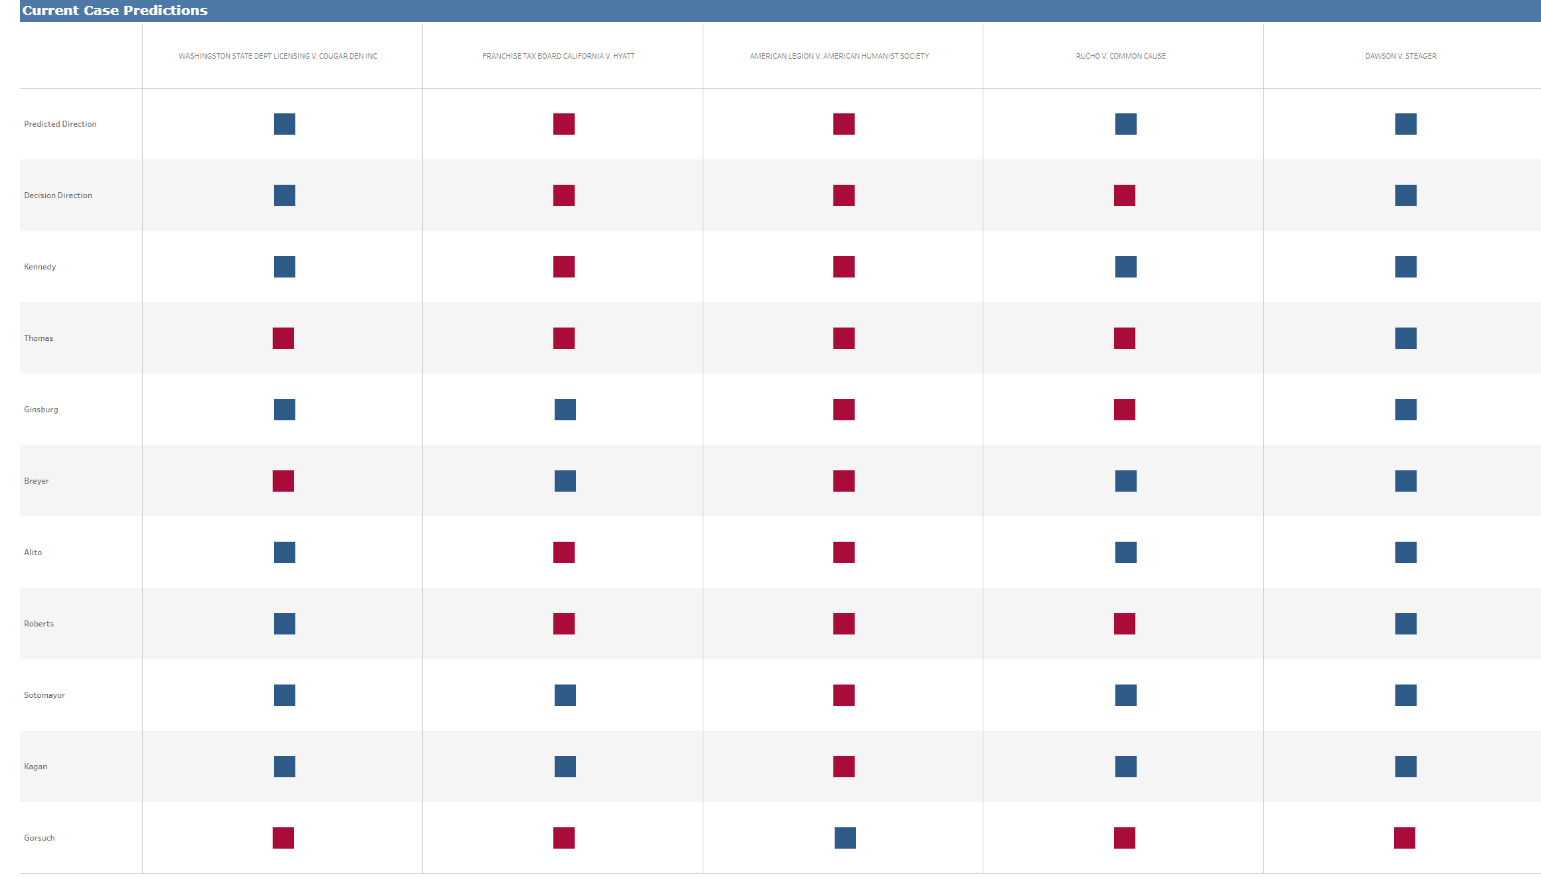

The page's visual inventory and layout, read from the dashboard file:
{"tool":"tableau","page":{"name":"Dashboard 1","canvas":[1000,1000],"units":"permille","ordinal":0},"visuals":[{"type":"legend","title":"Sheet 1","param":"[federated.1xqbuif0zy7qie17waup21fe5cdu].[none:vote_direction:ok]","box":[5.9,6.4,104,119.9]},{"type":"worksheet","title":"Sheet 1","mark":"Automatic","rows":["vote_direction"],"cols":["justiceName"],"box":[78,7.8,529.2,316.9]},{"type":"filter","title":"Sheet 1","param":"[federated.1xqbuif0zy7qie17waup21fe5cdu].[none:issueArea:ok]","box":[488.5,14.7,94.5,28.2]},{"type":"filter","title":"Sheet 3","param":"[federated.1xqbuif0zy7qie17waup21fe5cdu].[none:justiceName:nk]","box":[490.2,331.3,142.3,52.4]},{"type":"worksheet","title":"Sheet 3","mark":"Automatic","rows":["precedentAlteration"],"cols":["issueArea"],"box":[72.1,351.2,560.5,324.7]},{"type":"worksheet","title":"Sheet 4","mark":"Automatic","rows":["Number of Records"],"cols":["justiceName","term"],"box":[2.4,680.7,659.2,306]}]}

Visuals, with their boxes on the dashboard's canvas, which has no fixed pixel size, in thousandths of its width and height (x1, y1, x2, y2). These are canvas units, not pixel positions in the 1541x877 screenshot, which may show the page scaled, cropped or inside an application window:
"Sheet 1" legend: x1=6, y1=6, x2=110, y2=126
"Sheet 1" worksheet: x1=78, y1=8, x2=607, y2=325
"Sheet 1" filter: x1=488, y1=15, x2=583, y2=43
"Sheet 3" filter: x1=490, y1=331, x2=632, y2=384
"Sheet 3" worksheet: x1=72, y1=351, x2=633, y2=676
"Sheet 4" worksheet: x1=2, y1=681, x2=662, y2=987
